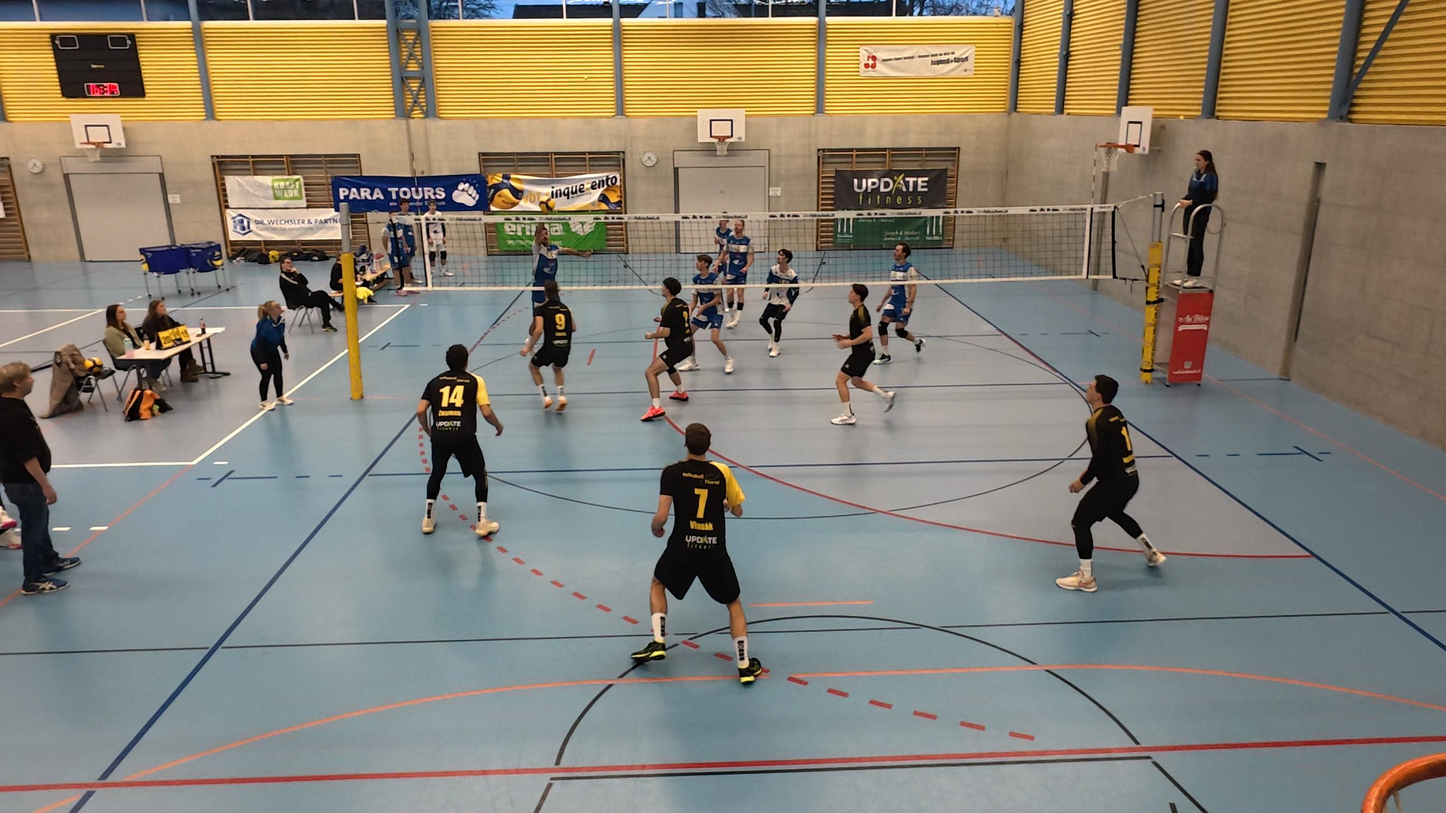attacco: (526, 194, 596, 347)
